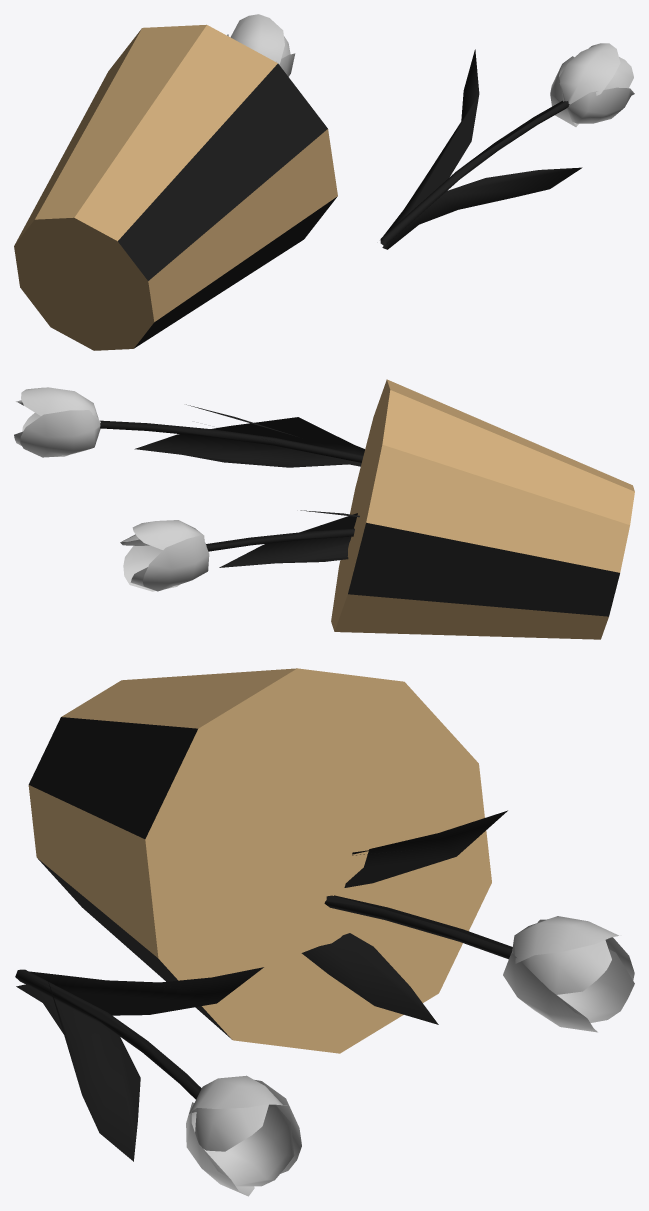
Rendered from b_çiçek.obj.
3 views of the same model, one above another, from view 1: azimuth 30°, elevation 25°; view 2: azimuth 150°, elevation 25°; view 3: azimuth 270°, elevation 25° (orthographic). The views are drawn at different scales.
Visible parts, largest first — view 1: Cylinder.115_m_açıkahşap, Cylinder.115_m_black, tulip_alutaroma_02.007_m_black, tulip_alutaroma_02.007_m_yırtıkduvar, tulip_alutaroma_02.008_m_yırtıkduvar; view 2: Cylinder.115_m_açıkahşap, Cylinder.115_m_black, tulip_alutaroma_02.007_m_black, tulip_alutaroma_02.008_m_yırtıkduvar, tulip_alutaroma_02.007_m_yırtıkduvar, tulip_alutaroma_02.008_m_black; view 3: Cylinder.115_m_açıkahşap, tulip_alutaroma_02.007_m_black, Cylinder.115_m_black, tulip_alutaroma_02.008_m_black, tulip_alutaroma_02.008_m_yırtıkduvar, tulip_alutaroma_02.007_m_yırtıkduvar.
Part boxes in pixels (<box>): Cylinder.115_m_açıkahşap: <box>14,24,337,350</box>; Cylinder.115_m_black: <box>118,63,337,348</box>; tulip_alutaroma_02.007_m_black: <box>380,49,582,249</box>; tulip_alutaroma_02.007_m_yırtıkduvar: <box>550,43,634,126</box>; tulip_alutaroma_02.008_m_yırtıkduvar: <box>227,14,295,76</box>; Cylinder.115_m_açıkahşap: <box>331,379,634,639</box>; Cylinder.115_m_black: <box>348,522,619,616</box>; tulip_alutaroma_02.007_m_black: <box>100,404,364,467</box>; tulip_alutaroma_02.008_m_yırtıkduvar: <box>120,520,209,591</box>; tulip_alutaroma_02.007_m_yırtıkduvar: <box>14,387,100,457</box>; tulip_alutaroma_02.008_m_black: <box>206,510,359,567</box>; Cylinder.115_m_açıkahşap: <box>28,668,491,1053</box>; tulip_alutaroma_02.007_m_black: <box>15,967,263,1161</box>; Cylinder.115_m_black: <box>28,717,231,1039</box>; tulip_alutaroma_02.008_m_black: <box>301,810,512,1024</box>; tulip_alutaroma_02.008_m_yırtıkduvar: <box>503,916,634,1032</box>; tulip_alutaroma_02.007_m_yırtıkduvar: <box>186,1075,301,1196</box>.
Size of the model in its own units: 14.52 by 5.57 by 8.59.
